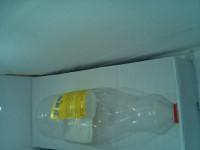bottle: (34, 85, 179, 147)
